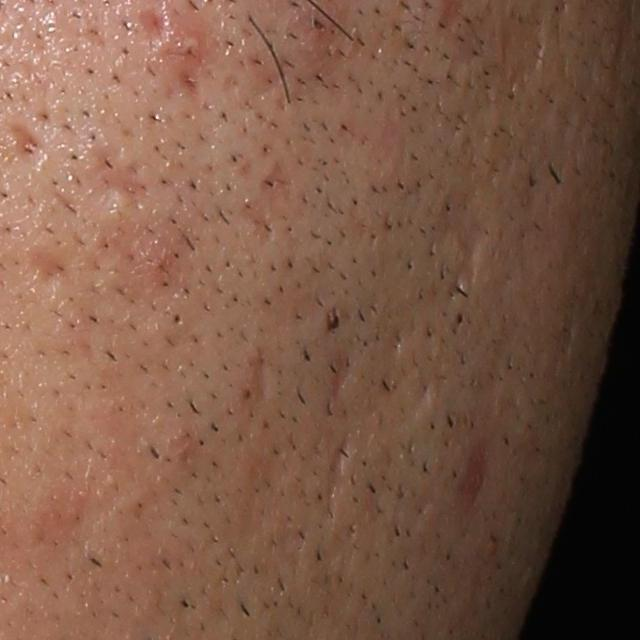atrophic_scar: (236, 155, 301, 248), (494, 14, 548, 91), (90, 152, 145, 215), (26, 246, 79, 298), (445, 224, 484, 293), (8, 125, 50, 171), (247, 351, 276, 409), (407, 375, 436, 412), (139, 8, 170, 42), (330, 361, 353, 406), (329, 438, 352, 477)
nevus: (324, 307, 343, 335)
papule: (169, 24, 209, 69)
